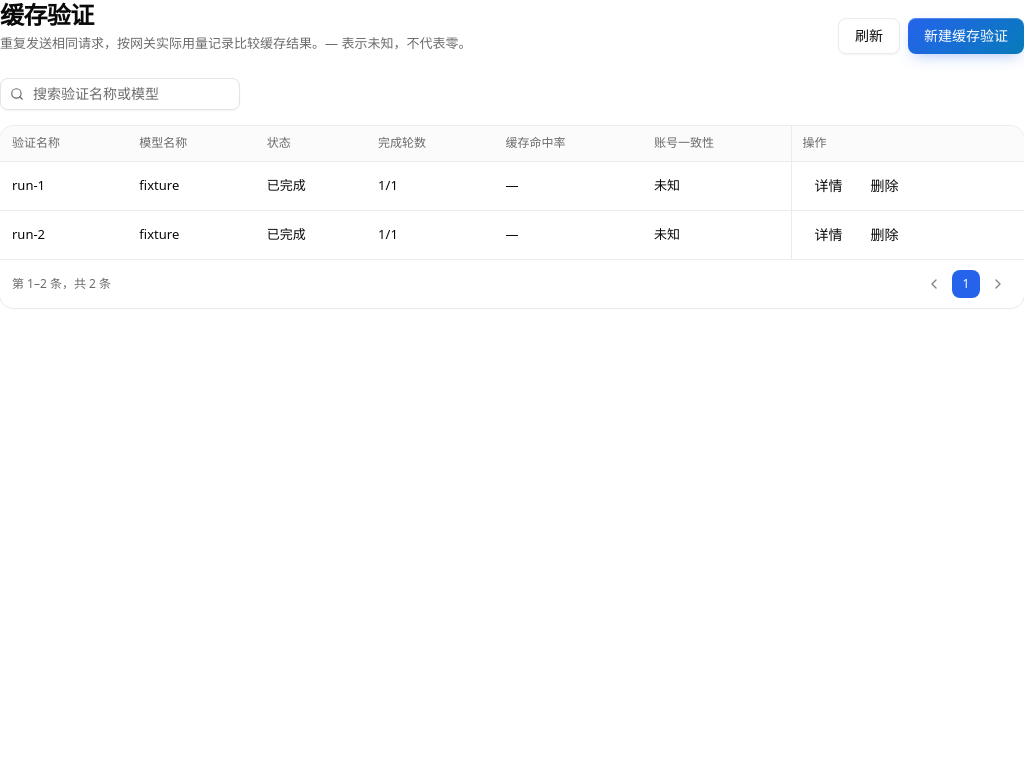
Test: latest detail wins and a late response cannot reopen a closed dialog
This screenshot has width=1024, height=768.
Expected: the text "run-1" is shown, [0,162,127,210]
Click the button "详情" in the row of "run-1".
click(829, 186)  # box [803,170,855,202]
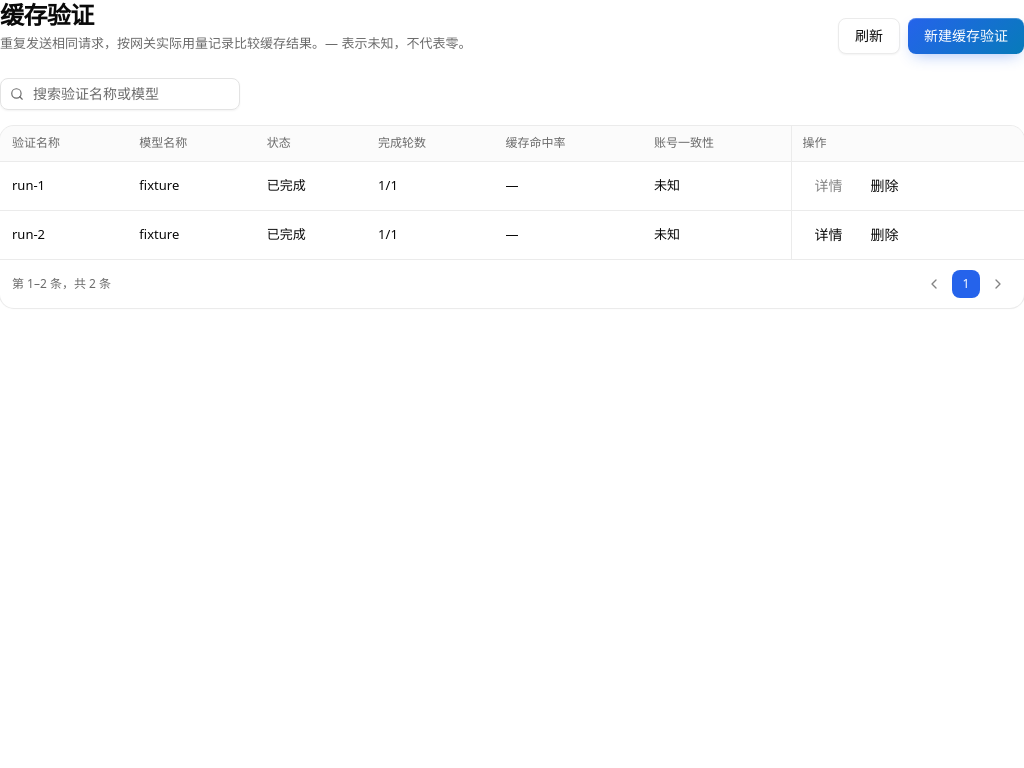
Click the button "详情" in the row of "run-2".
click(829, 235)  # box [803,219,855,251]
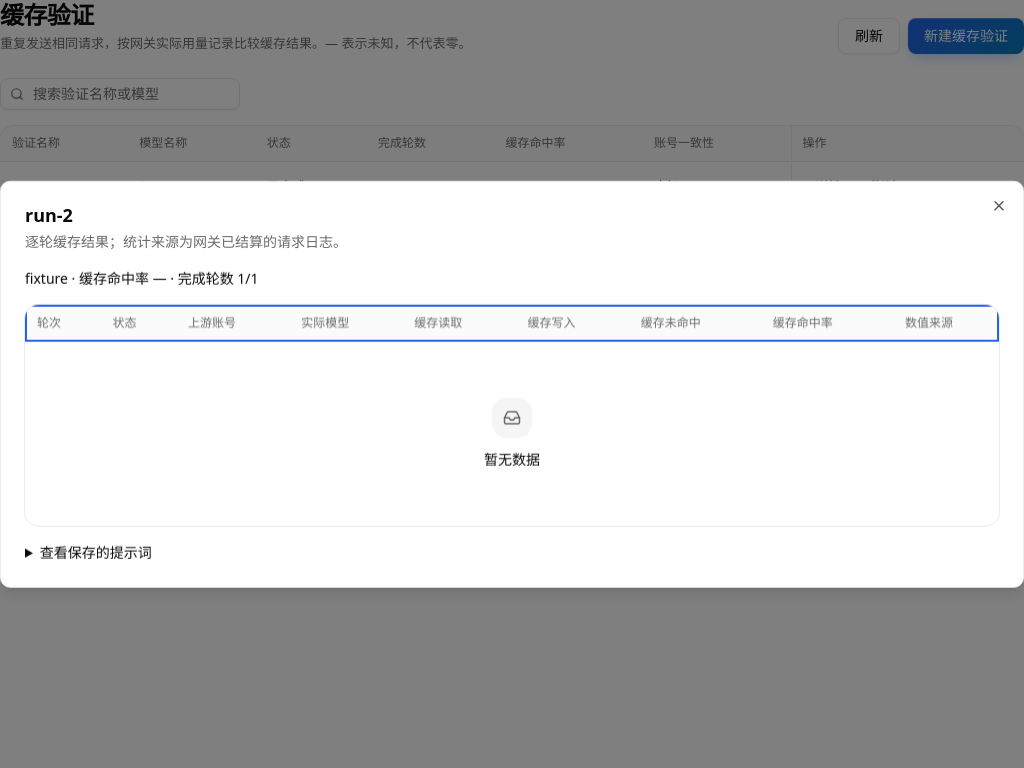
Now the dialog shows "run-2", box [25,203,73,227]
Press Escape in the dialog, box [0,181,1023,587]
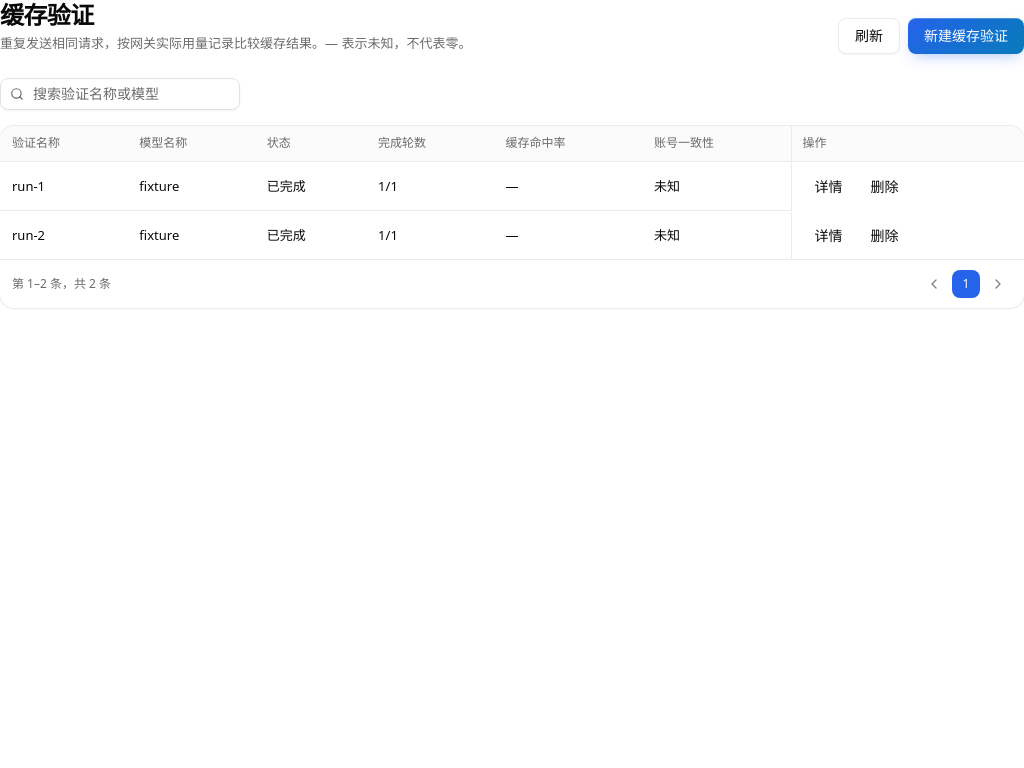
Now the dialog is gone
